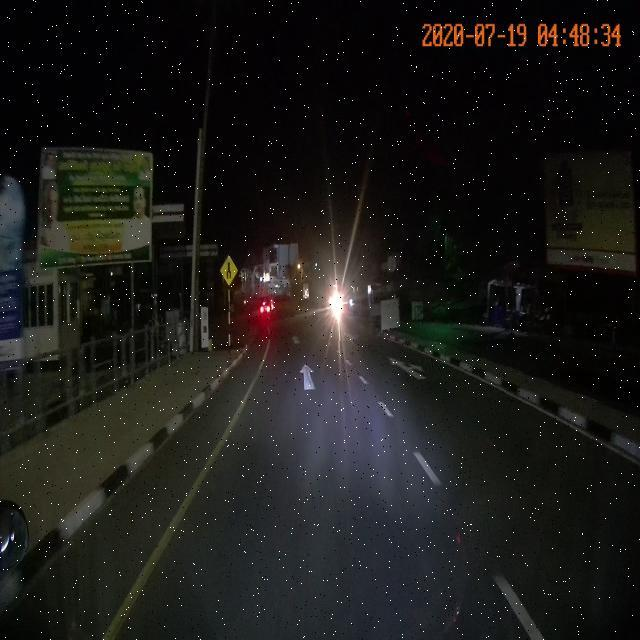forward: (237, 355, 386, 405)
forward_right: (339, 342, 504, 407)
